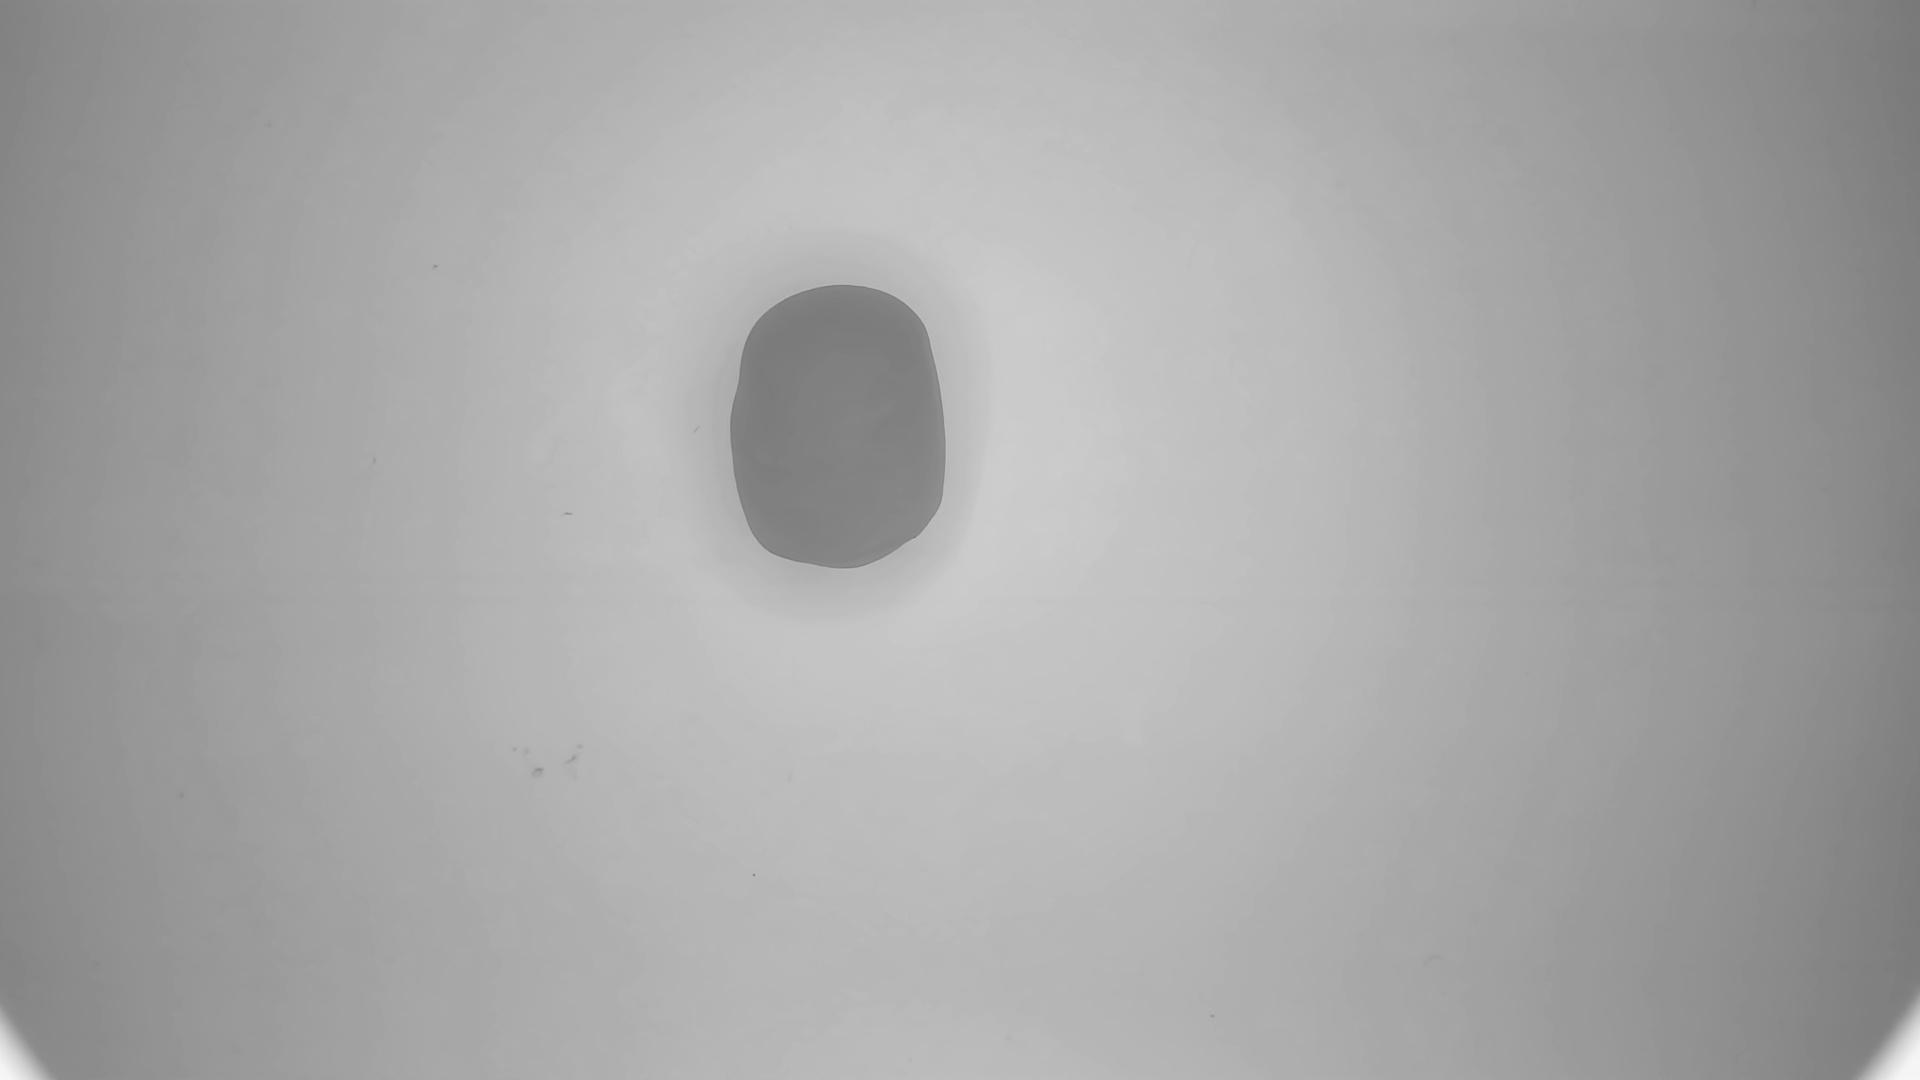abnormal: (728, 284, 952, 571)
